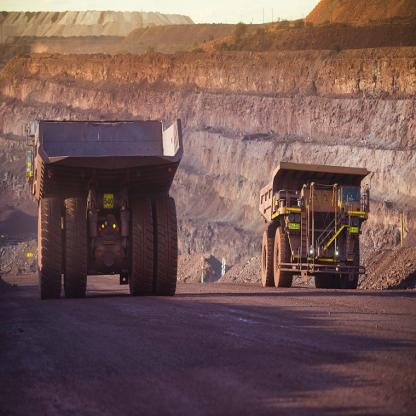dump_truck: (22, 84, 180, 290), (252, 153, 374, 307)
